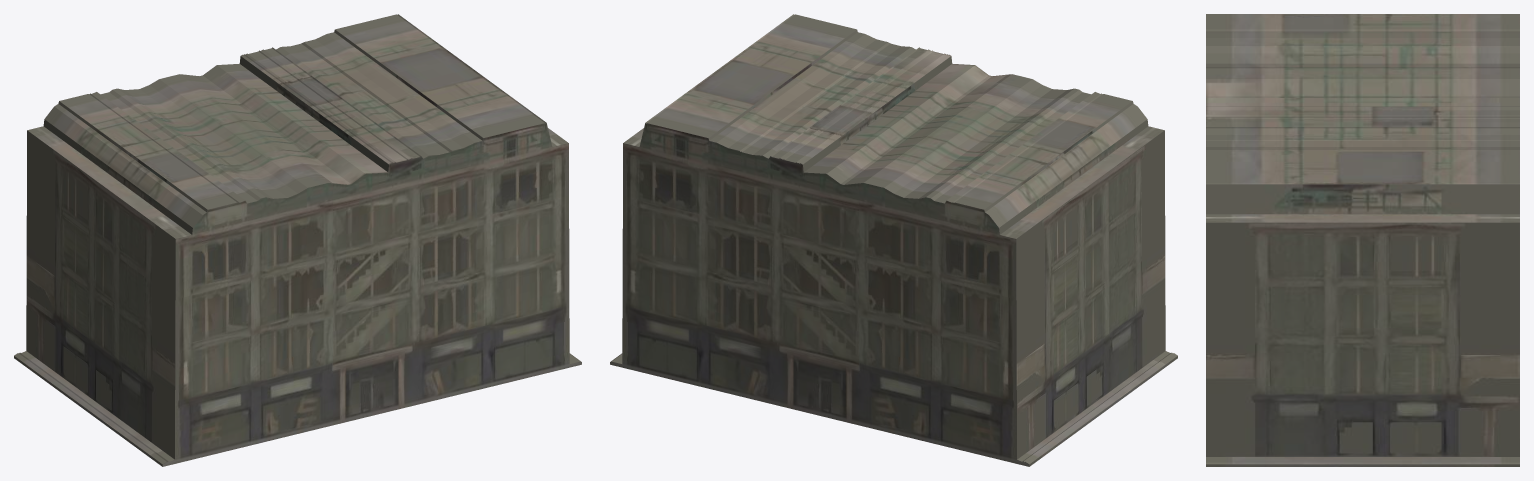
File: bg_city_building_1_lod0.glb
3 renders of one model, left to right at view 1: azimuth 30°, elevation 25°; view 2: azimuth 150°, elevation 25°; view 3: azimuth 270°, elevation 25°, orthographic. The views are drawn at different scales.
Parts seen in each view (by area): view 1: body; view 2: body; view 3: body.
Boxes of the visible parts, x1,y1,x2,y2 form: body: (14, 14, 581, 466); body: (610, 14, 1177, 466); body: (1206, 14, 1519, 466).
Size of the model in its own units: 10 by 5.71 by 6.14.
Materials: 1 (1 with a texture image).
